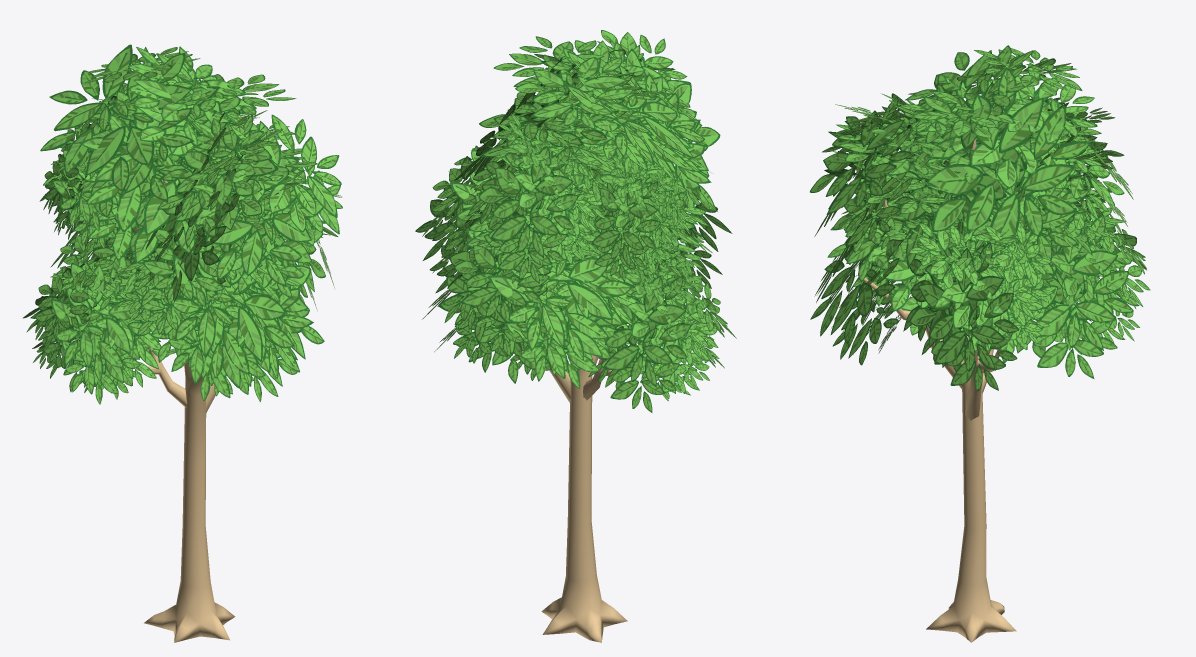
File: Tree_1.fbx
3 renders of one model, left to right at view 1: azimuth 30°, elevation 25°; view 2: azimuth 150°, elevation 25°; view 3: azimuth 270°, elevation 25°, orthographic. The views are drawn at different scales.
Visible parts, largest first — view 1: Tree_8_Leaf69; view 2: Tree_8_Leaf69; view 3: Tree_8_Leaf69.
Boxes of the visible parts, box(x1,y1,x2,y2) form: Tree_8_Leaf69: box(23, 44, 342, 642); Tree_8_Leaf69: box(415, 30, 736, 642); Tree_8_Leaf69: box(810, 45, 1150, 642).
Size of the model in its own units: 8.97 by 15.68 by 9.67.
